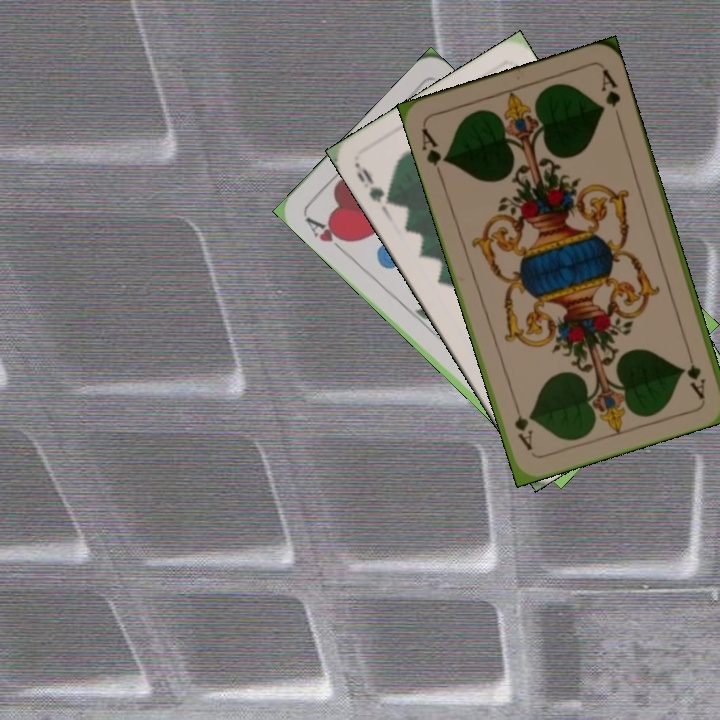G9: (351, 160, 398, 208)
GA: (417, 124, 451, 180), (682, 344, 708, 402)
HA: (301, 212, 353, 257)
